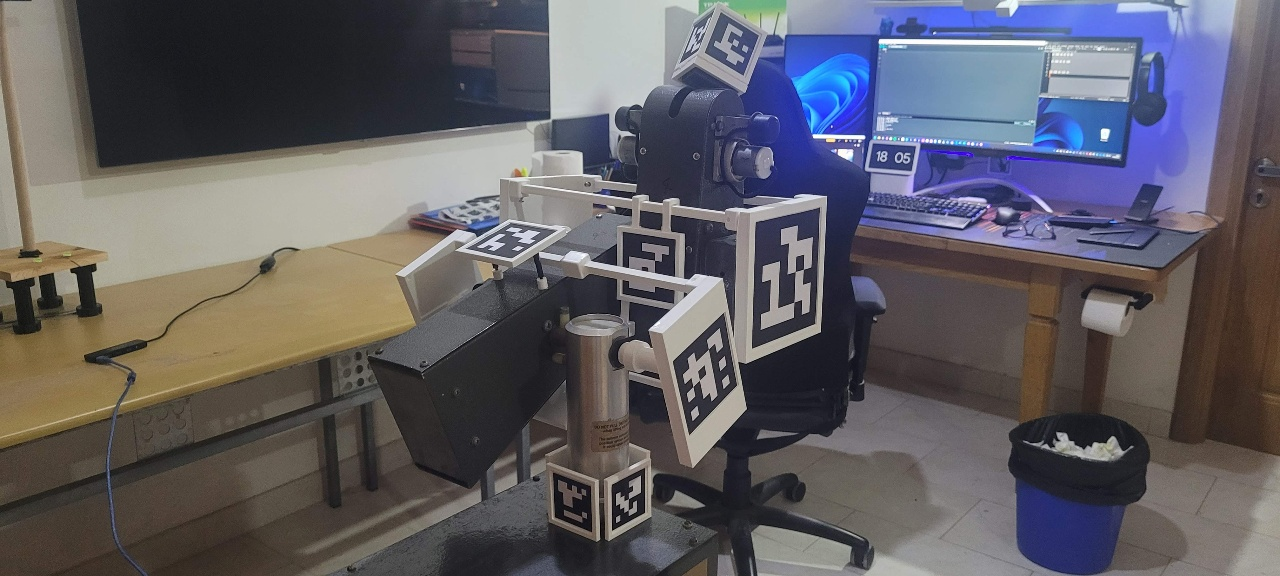Robot: (305, 18, 872, 576)
